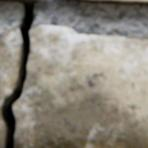brick: (106, 0, 147, 2)
broken_brick: (13, 24, 147, 147), (0, 25, 21, 116), (0, 119, 4, 147)
crack: (0, 0, 34, 147)
